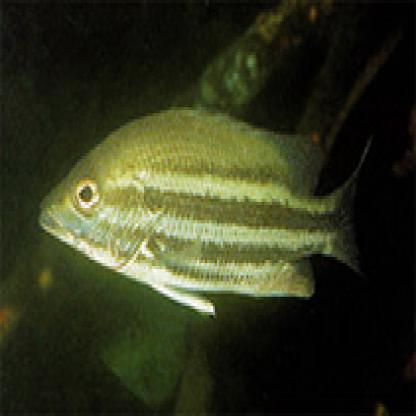Lutjanidae -Snappers-: (37, 90, 386, 328)
